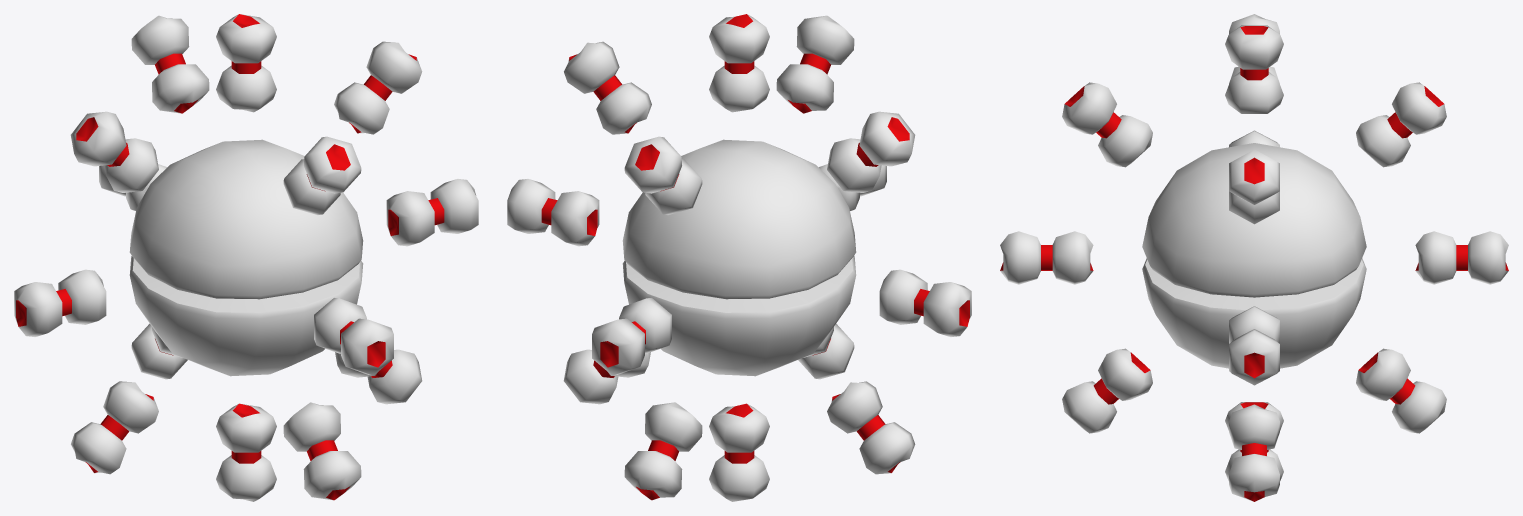
Rendered from Mina.fbx.
3 views of the same model, side by side, from view 1: azimuth 30°, elevation 25°; view 2: azimuth 150°, elevation 25°; view 3: azimuth 270°, elevation 25° (orthographic). The views are drawn at different scales.
Parts seen in each view (by area): view 1: Cube, Cylinder.004, Cylinder.007; view 2: Cube, Cylinder.004, Cylinder.007; view 3: Cube, Cylinder.007, Cylinder.004.
Part boxes in pixels (<box>): Cube: <box>129,139,363,376</box>; Cylinder.004: <box>14,14,478,501</box>; Cylinder.007: <box>99,15,393,500</box>; Cube: <box>622,139,856,376</box>; Cylinder.004: <box>507,14,971,501</box>; Cylinder.007: <box>592,15,886,500</box>; Cube: <box>1142,143,1366,368</box>; Cylinder.007: <box>1000,82,1508,433</box>; Cylinder.004: <box>1225,14,1283,501</box>.
Bounding box in the file's own units: 376 × 376 × 376.
